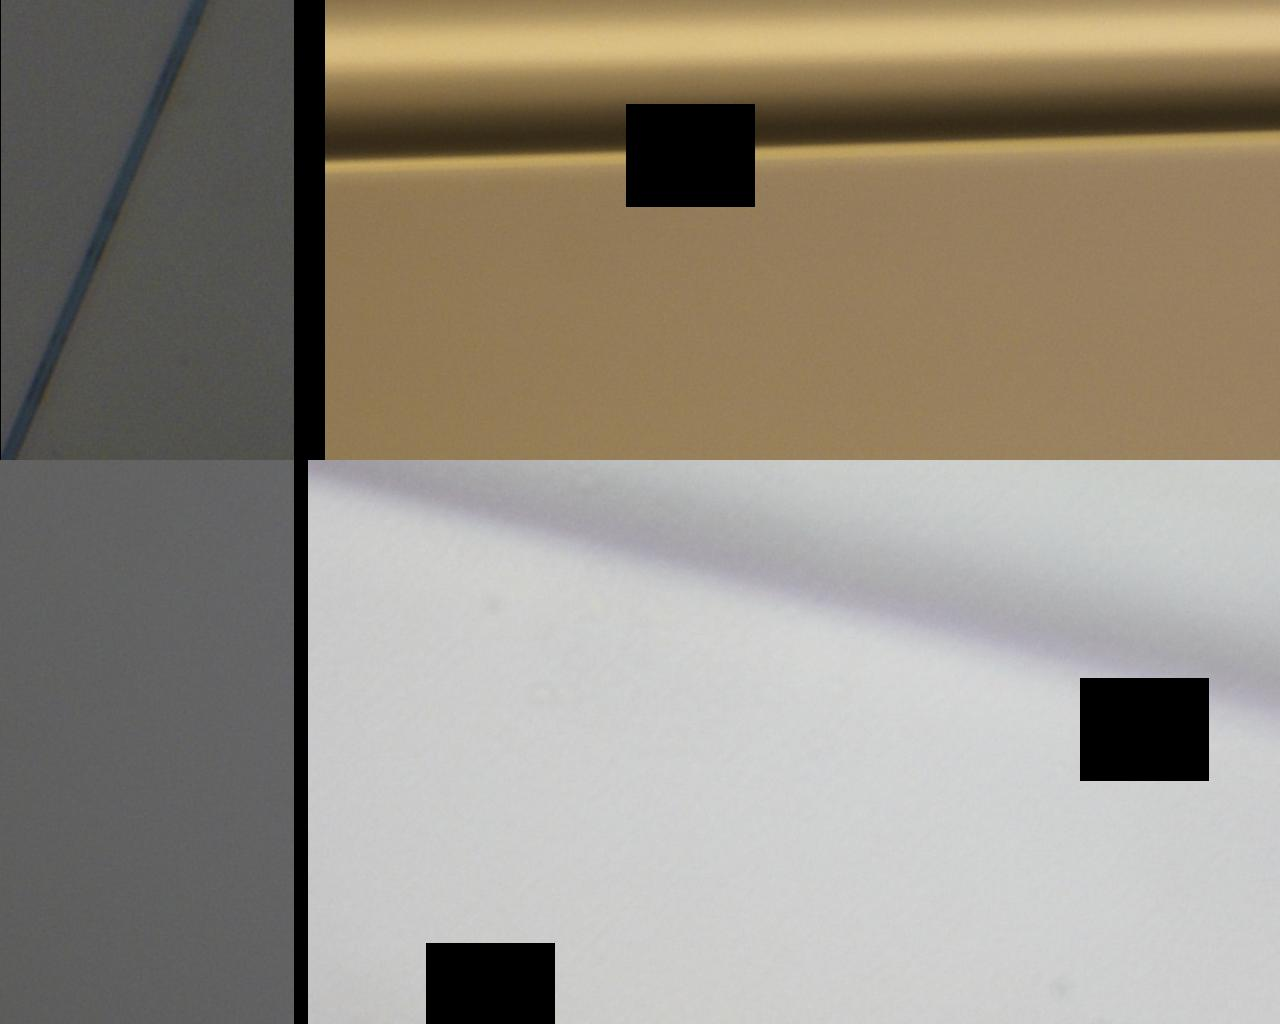fiber: (127, 534, 1151, 704)
